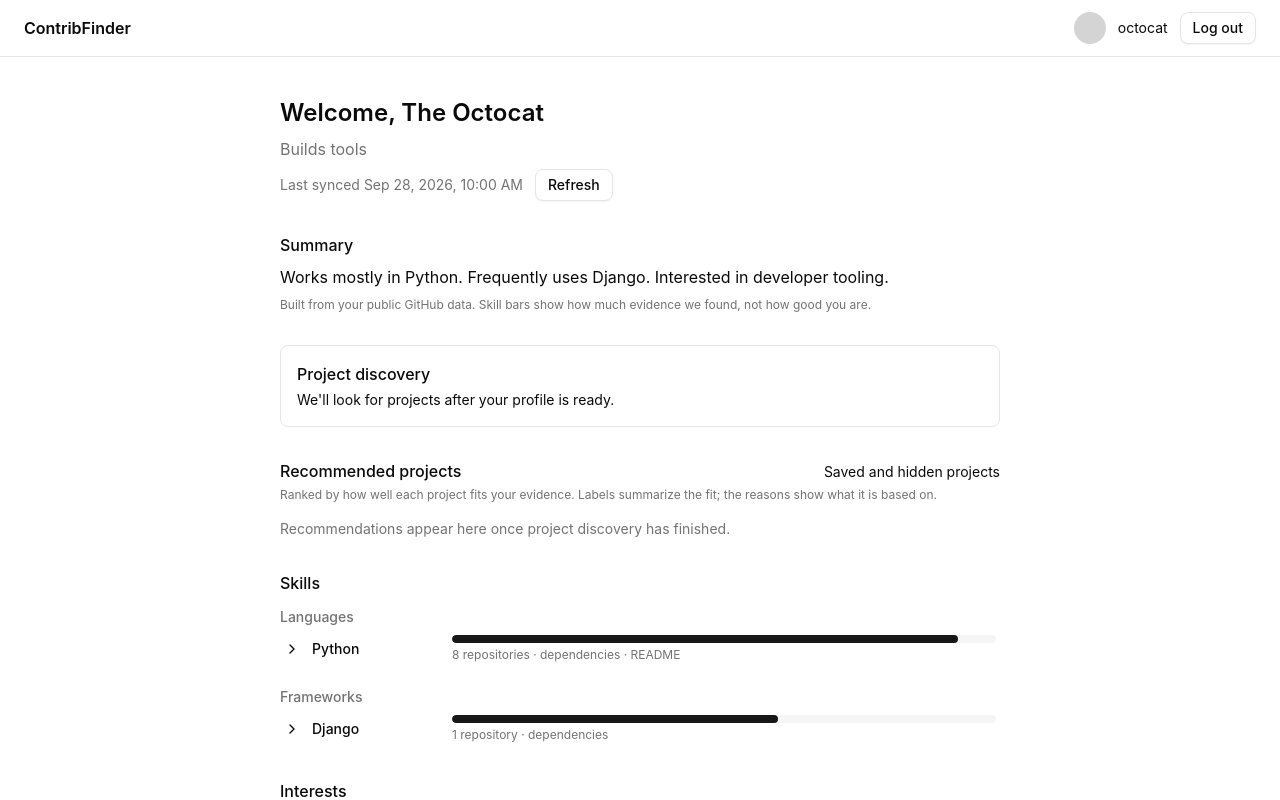
Test: dashboard › refresh starts a sync
The image size is (1280, 800).
What coordinates should you click on to do the following:
click the button "Refresh"
I would click on:
 (574, 185)
Its box is [535, 169, 613, 201].
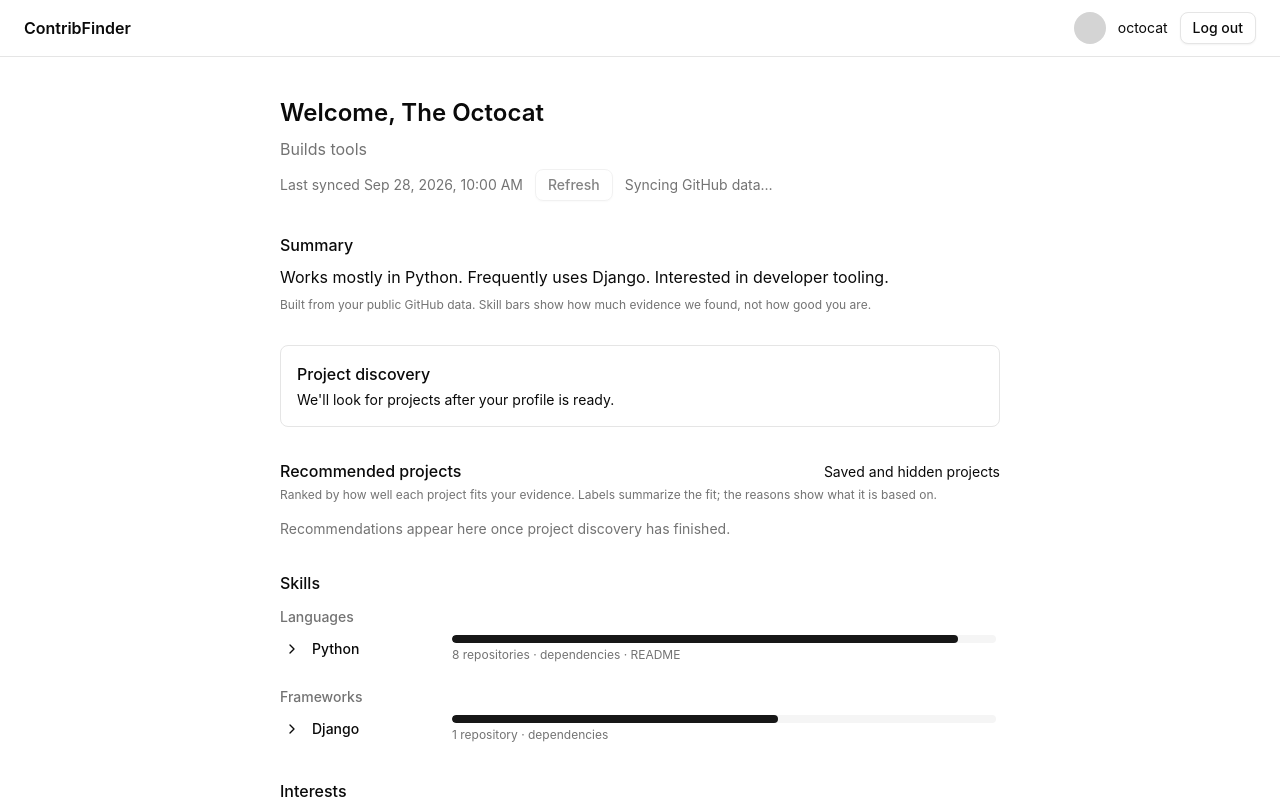
Check: the message reads "Syncing GitHub data…", box [625, 176, 773, 193]
Check: the button "Refresh" is disabled, box [535, 169, 613, 201]
